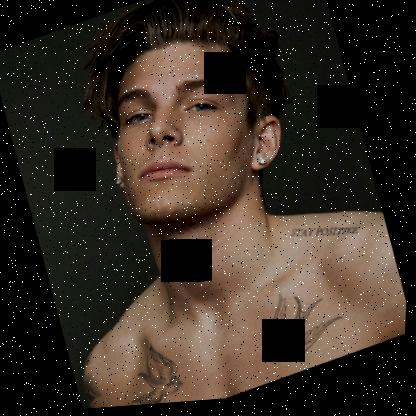Male: (82, 11, 300, 246)
